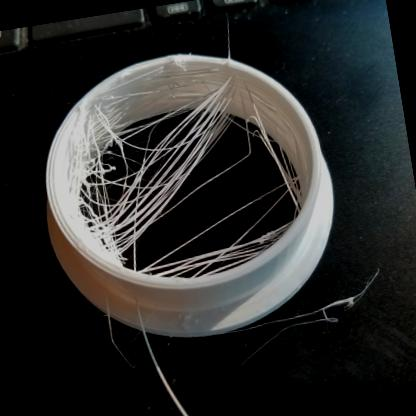fail: (85, 95, 317, 296)
